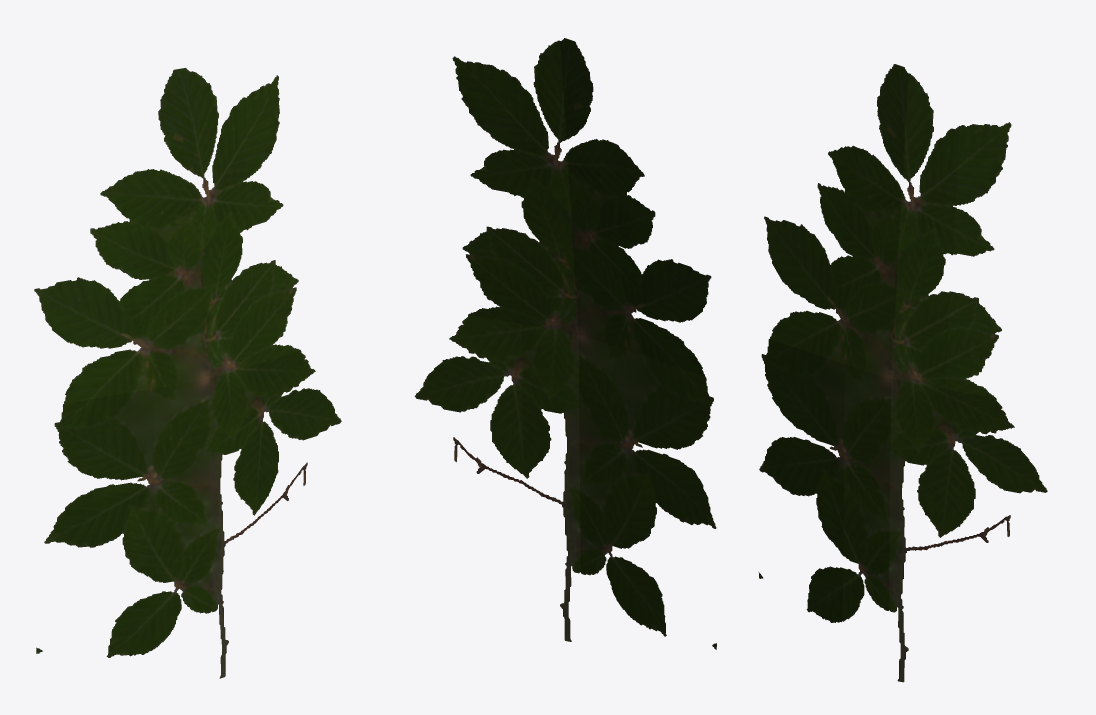
The model's file is Plant1.fbx.
The picture shows the model from 3 angles, left to right: view 1: azimuth 30°, elevation 25°; view 2: azimuth 150°, elevation 25°; view 3: azimuth 330°, elevation 25°; orthographic projection. The views are drawn at different scales.
Visible parts, largest first — view 1: Plane.006; view 2: Plane.006; view 3: Plane.006.
Boxes of the visible parts, left/top/right/bottom form: Plane.006: left=34, top=68, right=341, bottom=678; Plane.006: left=414, top=38, right=716, bottom=649; Plane.006: left=758, top=64, right=1047, bottom=682.
Bounding box in the file's own units: 107 × 200 × 27.04.
